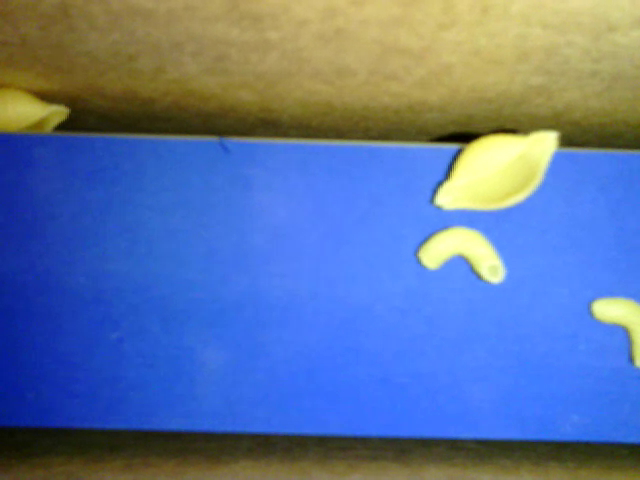elbow: (416, 224, 505, 288), (587, 294, 639, 368)
shell: (430, 127, 562, 214), (1, 83, 73, 134)
